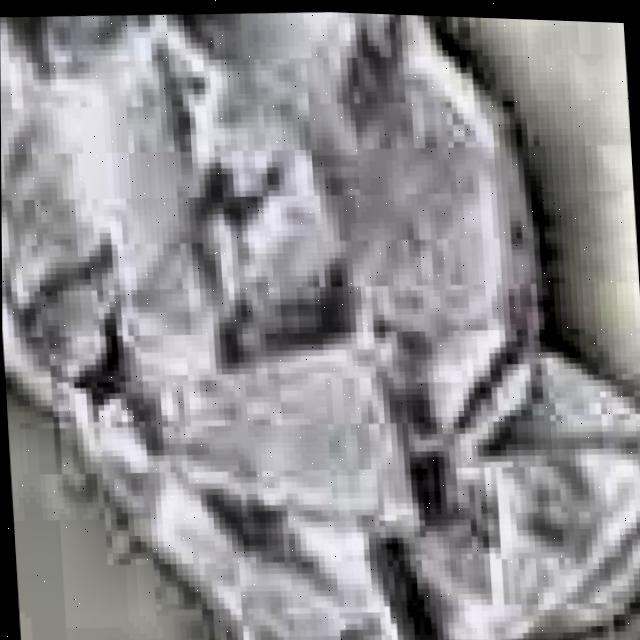paper: (0, 9, 640, 640)
